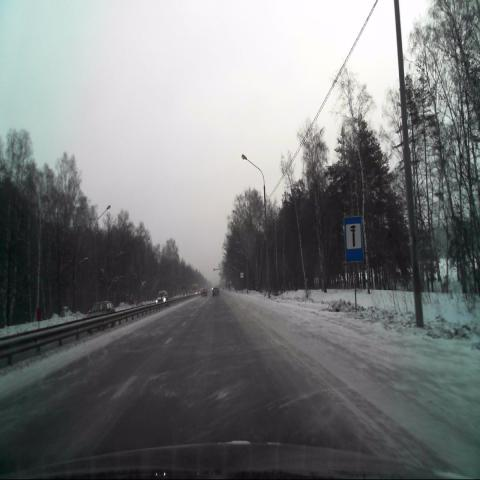7_4: (344, 216, 363, 262)
